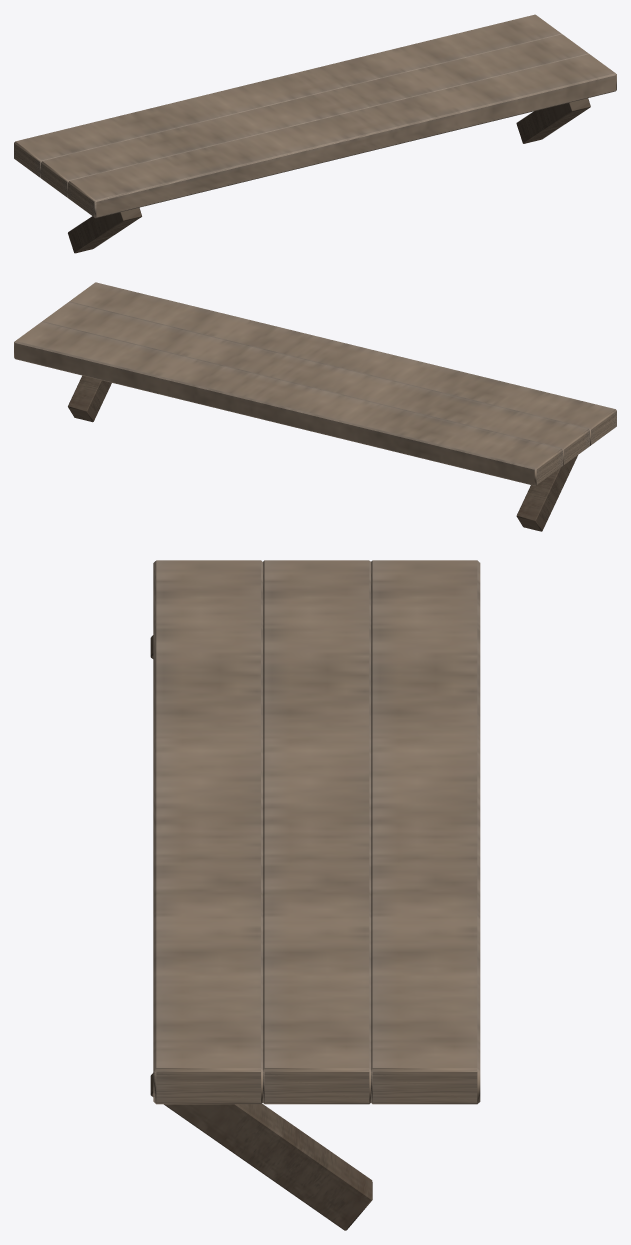
File: BW_Merchant01_Counter.fbx
3 renders of one model, top to bottom at view 1: azimuth 30°, elevation 25°; view 2: azimuth 150°, elevation 25°; view 3: azimuth 270°, elevation 25°, orthographic. The views are drawn at different scales.
Parts seen in each view (by area): view 1: BW_Merchant01_Counter; view 2: BW_Merchant01_Counter; view 3: BW_Merchant01_Counter.
Boxes of the visible parts, x1,y1,x2,y2 form: BW_Merchant01_Counter: (14,14,616,253); BW_Merchant01_Counter: (14,282,616,531); BW_Merchant01_Counter: (150,560,480,1230).
Bounding box in the file's own units: 2.4 × 0.4138 × 0.6556.
